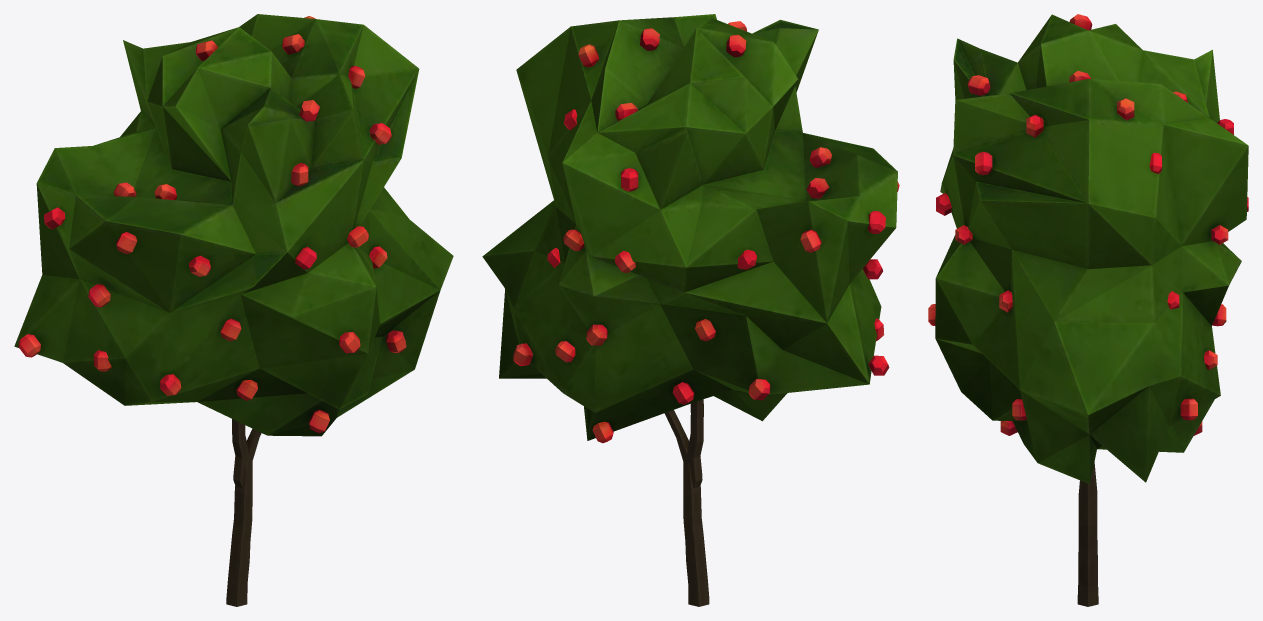
The model's file is cpg6wP8JCyQ.glb.
3 views of the same model, side by side, from view 1: azimuth 30°, elevation 25°; view 2: azimuth 150°, elevation 25°; view 3: azimuth 270°, elevation 25° (orthographic).
Visible parts, largest first — view 1: AppleTree_mesh; view 2: AppleTree_mesh; view 3: AppleTree_mesh.
Boxes of the visible parts, x1,y1,x2,y2 form: AppleTree_mesh: [14, 14, 453, 606]; AppleTree_mesh: [482, 14, 899, 606]; AppleTree_mesh: [928, 14, 1248, 606].
Size of the model in its own units: 0.7654 by 1 by 0.5073.
1 material, 1 textured.
